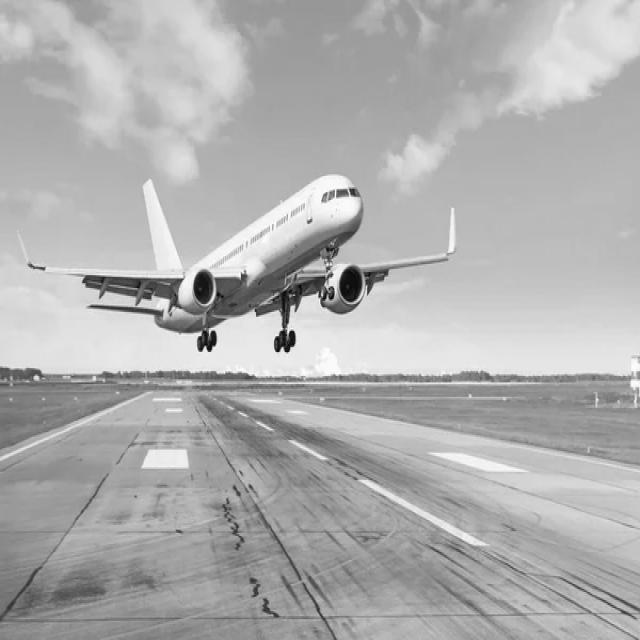Aircraft: (21, 165, 458, 367)
